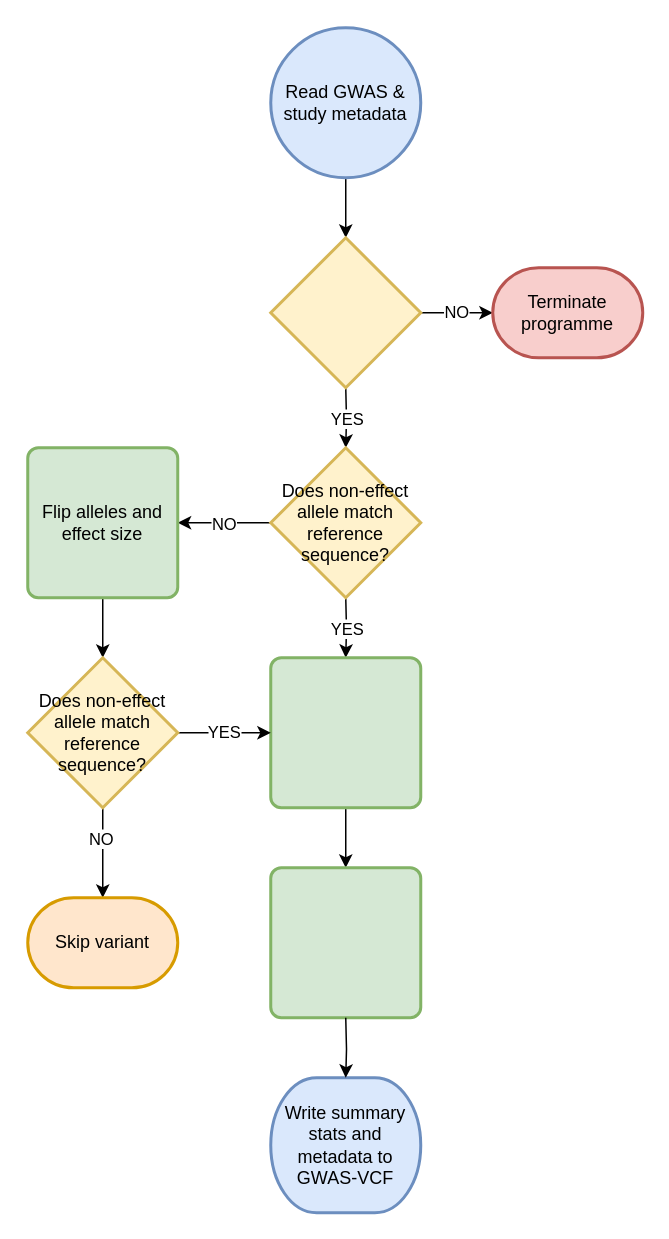
Some shapes in this 669 by 1239 pixel diagram are drawn without their labels. Here are the shapes that lost their labels. From the top down, the centre of each, then its label:
At (x=345, y=312): "Are required values provided and valid?".
At (x=345, y=732): "Left align and trim alleles to minimal representation".
At (x=345, y=942): "Update RSID with dbSNP build 153".
